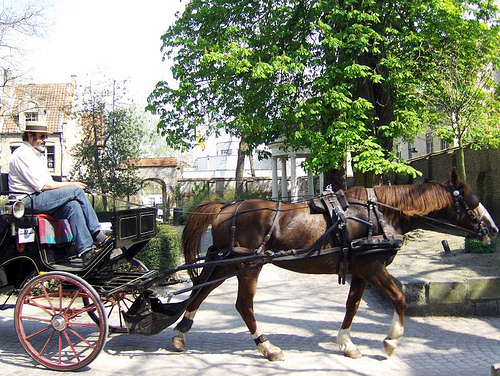horse: (170, 168, 497, 363)
